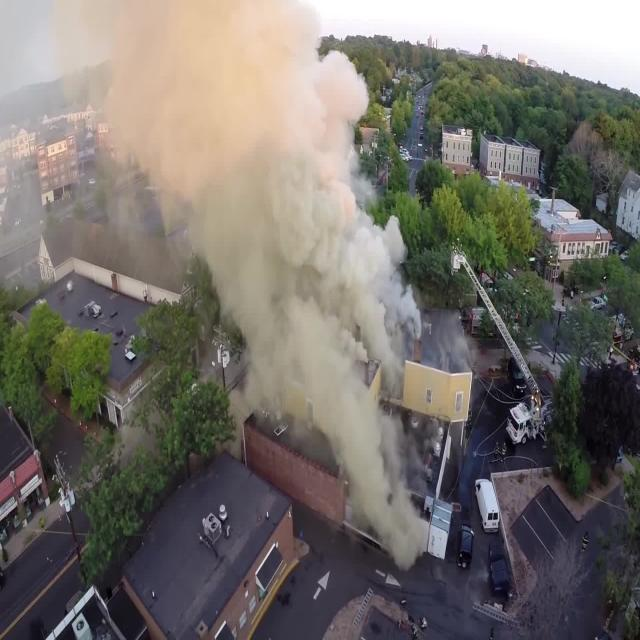Smoke: (58, 2, 440, 583)
